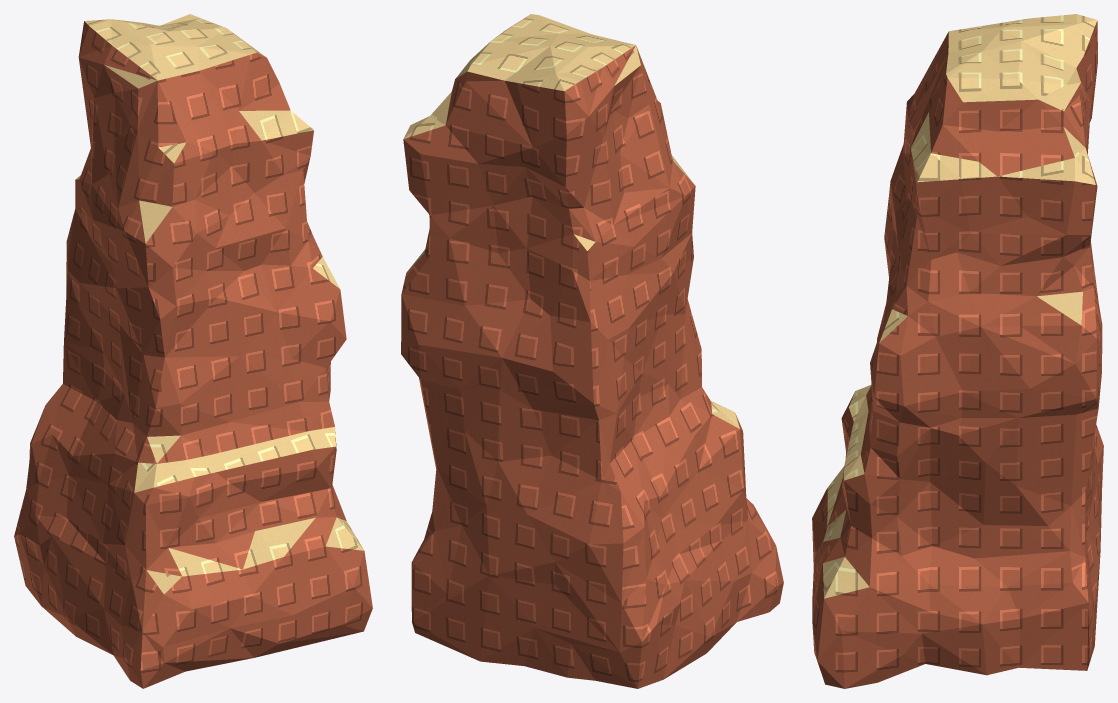
File: DesertButtress.glb
3 renders of one model, left to right at view 1: azimuth 30°, elevation 25°; view 2: azimuth 150°, elevation 25°; view 3: azimuth 270°, elevation 25°, orthographic. The views are drawn at different scales.
Visible parts, largest first — view 1: DesertButtress_Rock, DesertButtress_Top; view 2: DesertButtress_Rock, DesertButtress_Top; view 3: DesertButtress_Rock, DesertButtress_Top.
Boxes of the visible parts, <box> form: DesertButtress_Rock: <box>14,21,372,688</box>; DesertButtress_Top: <box>76,14,363,593</box>; DesertButtress_Rock: <box>401,45,783,688</box>; DesertButtress_Top: <box>403,14,739,428</box>; DesertButtress_Rock: <box>812,21,1103,688</box>; DesertButtress_Top: <box>823,14,1097,598</box>.
Size of the model in its own units: 7.18 by 16.03 by 7.1.
2 materials, 2 textured.
